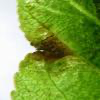Apple Scab Leaf: (2, 0, 94, 97)
